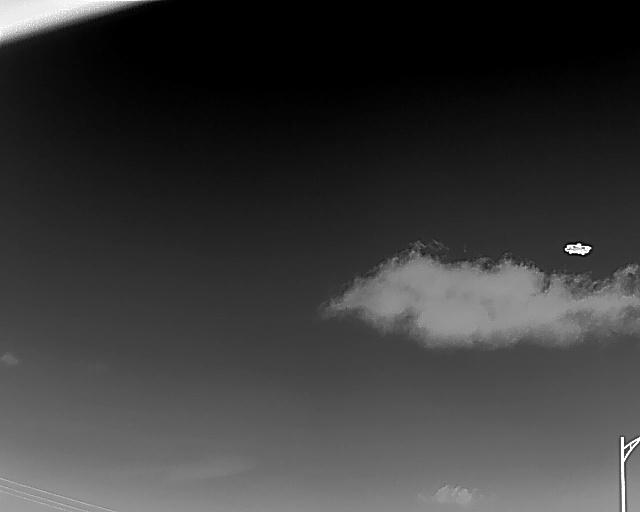fpv-drone: (563, 242, 591, 255)
